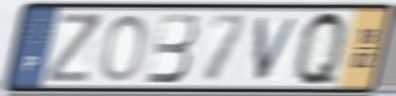7: (201, 12, 248, 85)
B: (143, 11, 199, 85)
O: (99, 12, 150, 84)
Q: (293, 7, 348, 90)
V: (253, 14, 304, 83)
Z: (44, 11, 104, 84)
